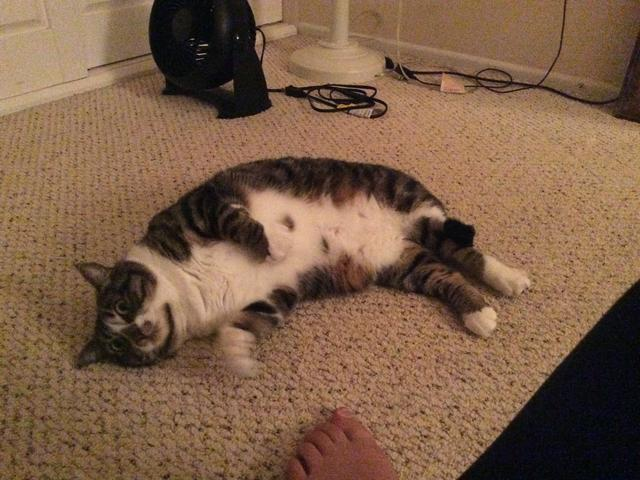playdoh: (74, 155, 528, 374)
